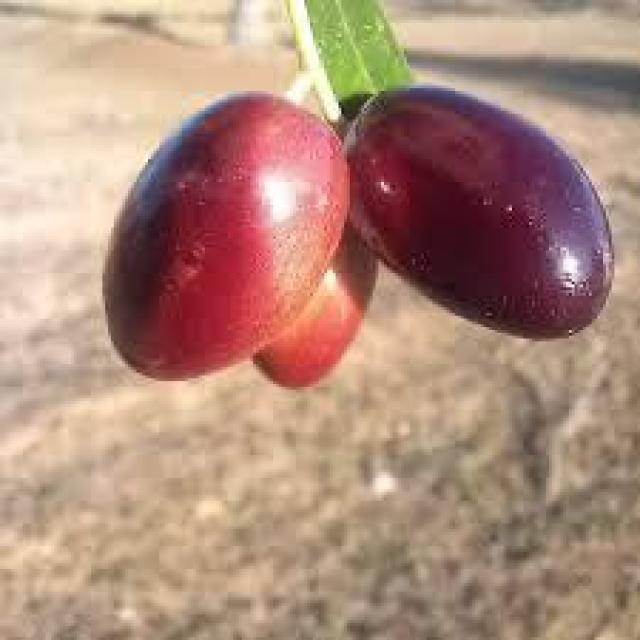Healthy: (105, 94, 347, 378), (341, 85, 612, 336)
